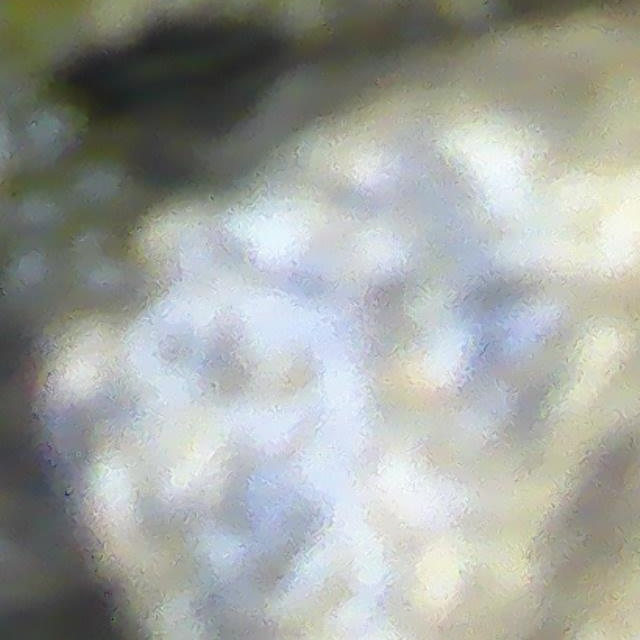SeaGrape: (0, 243, 67, 312)
